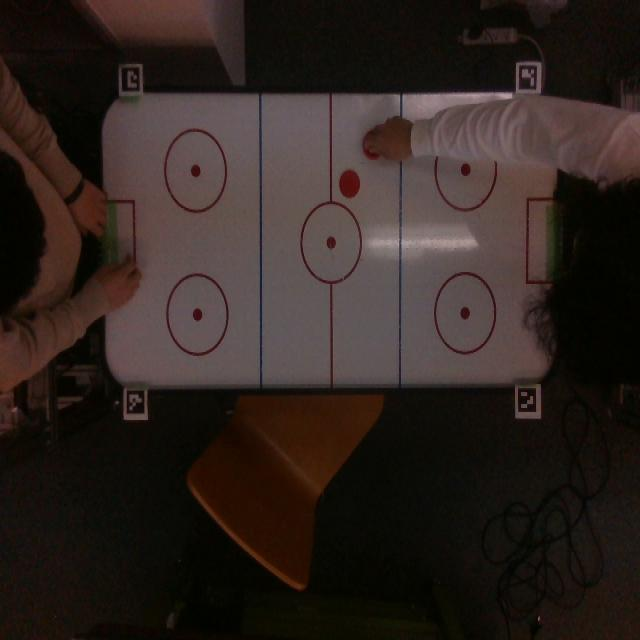puck: (339, 169, 360, 199)
